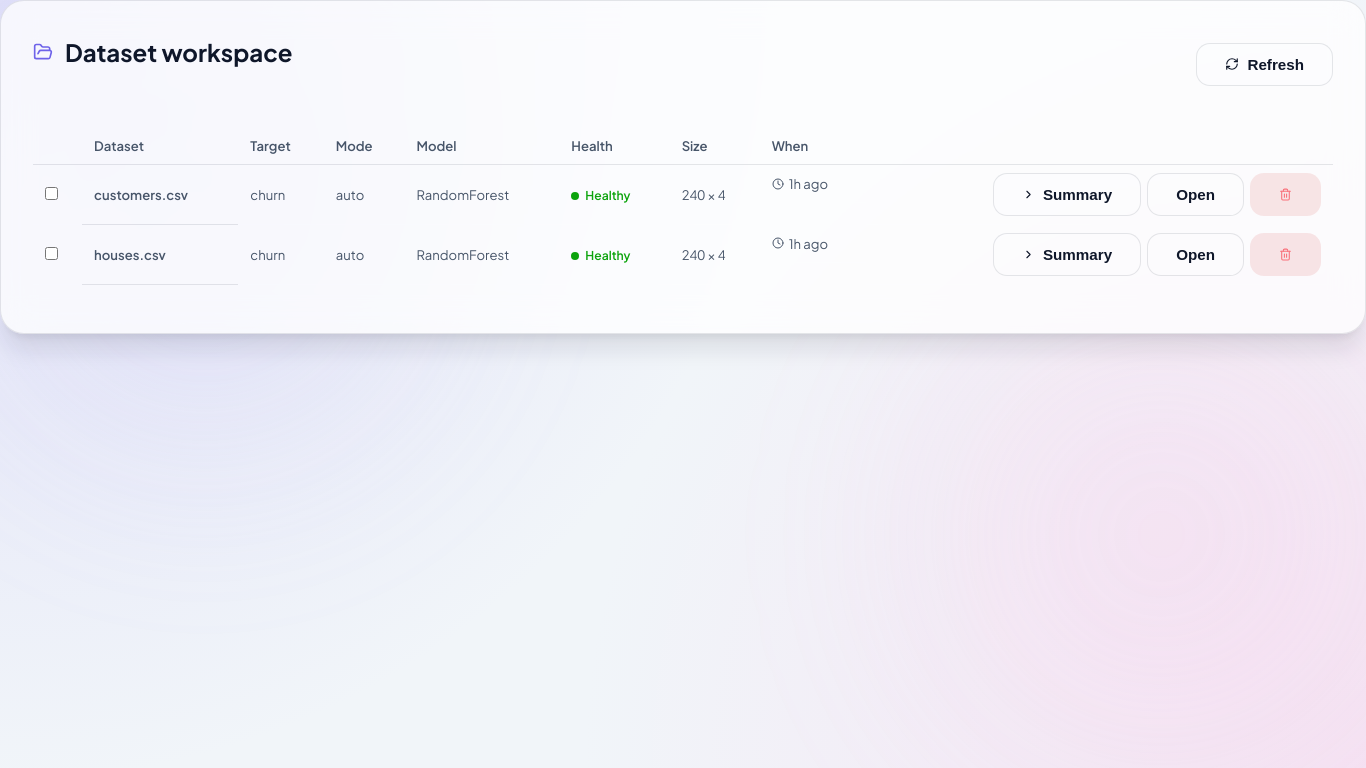
Test case: Workspace › refuses to plot runs of different problem types
The width and height of the screenshot is (1366, 768).
Click the checkbox named "Compare customers.csv" at (52, 194), box [45,187,58,200]
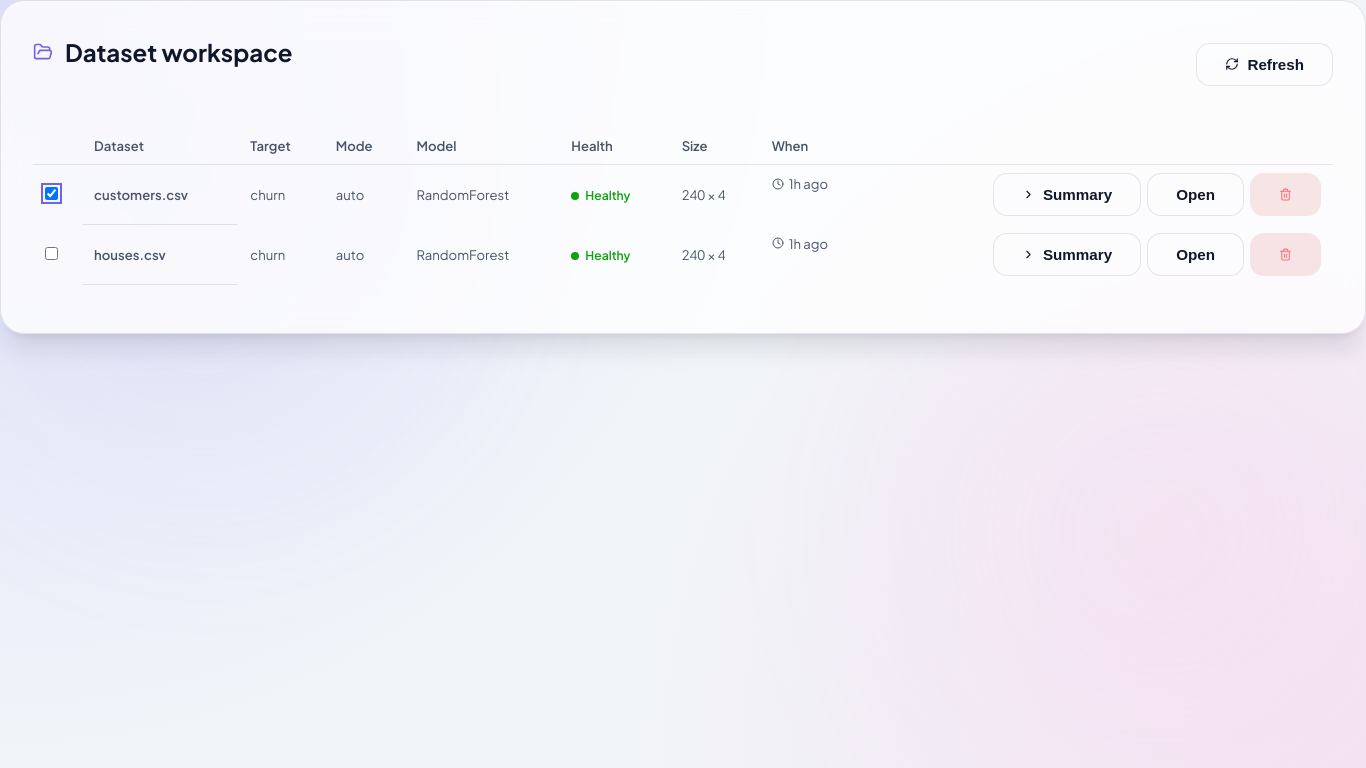
Click the checkbox named "Compare houses.csv" at (52, 254), box [45,247,58,260]
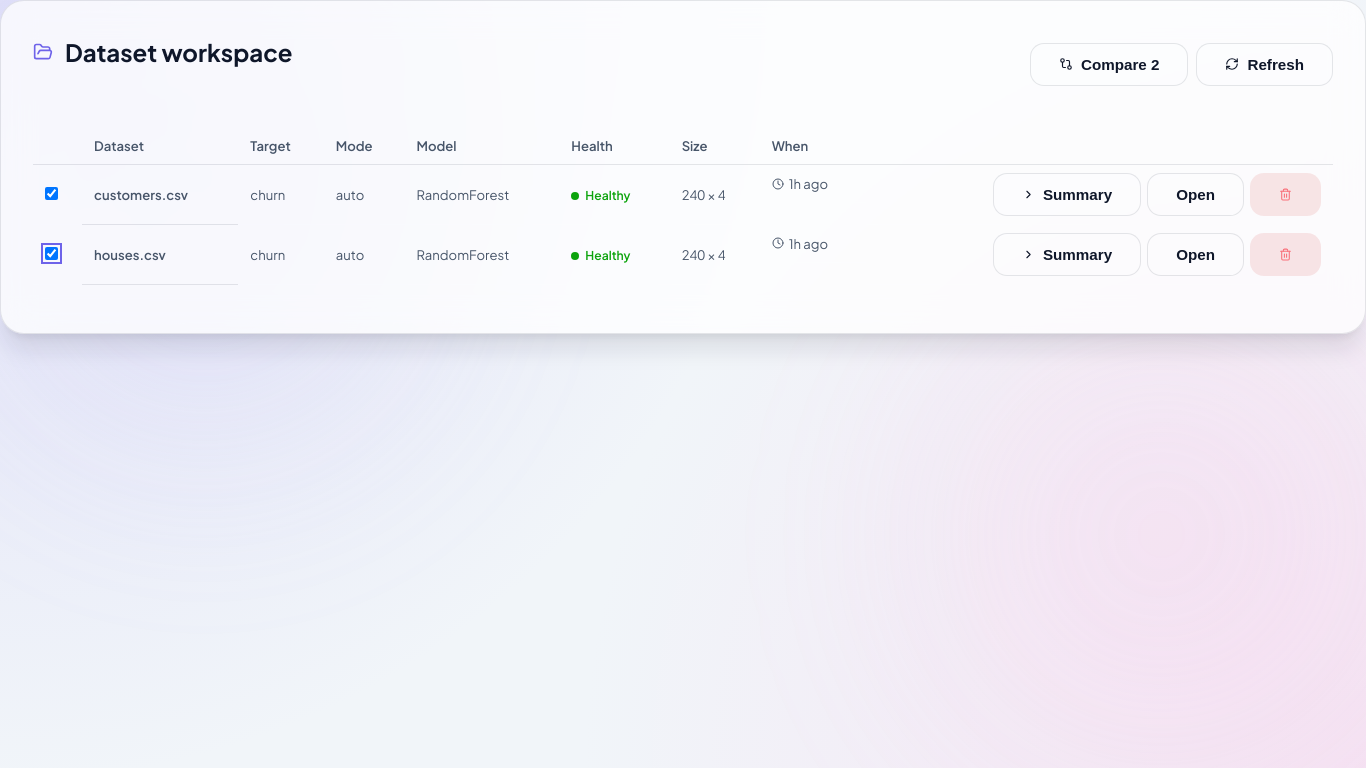
Click the button "Compare 2" at (1109, 64), box [1030,43,1188,86]
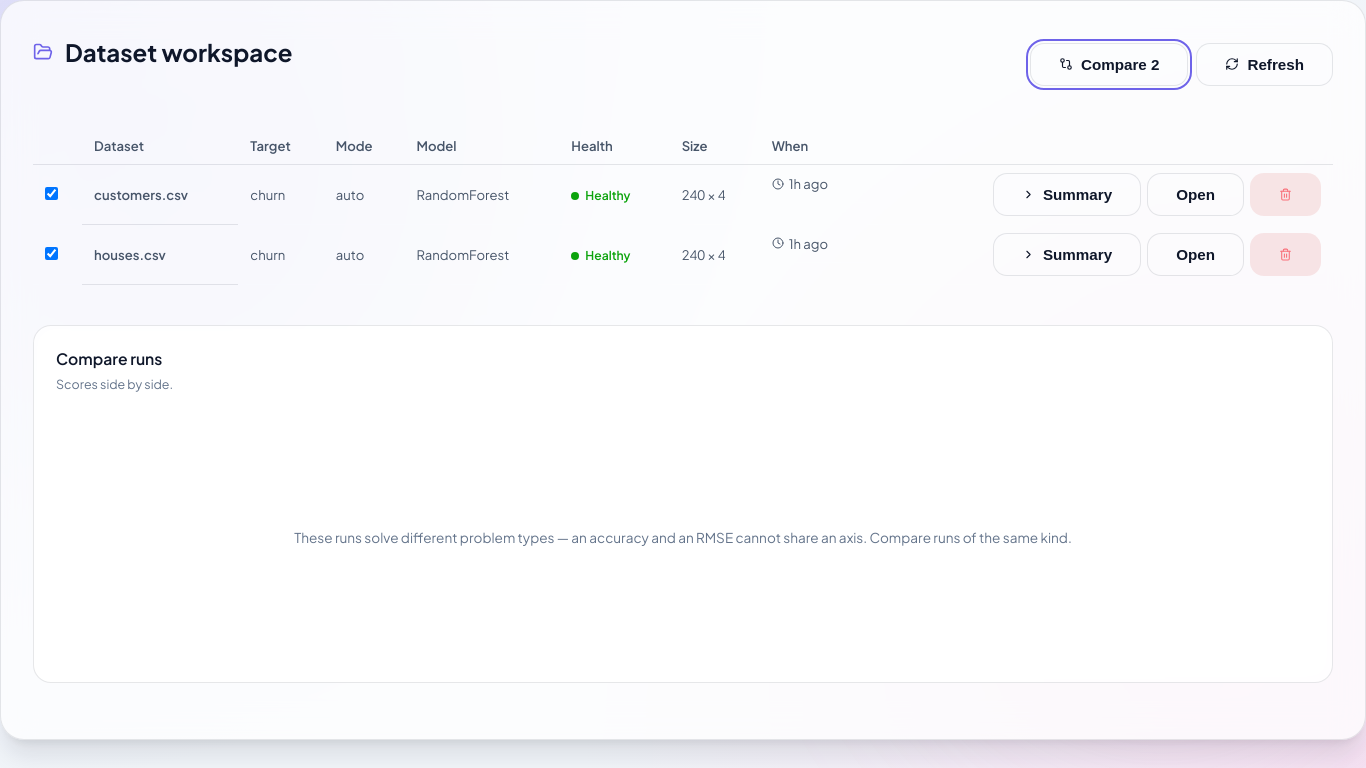
Expected: the text "cannot share an axis" is shown, [294,529,1072,546]
